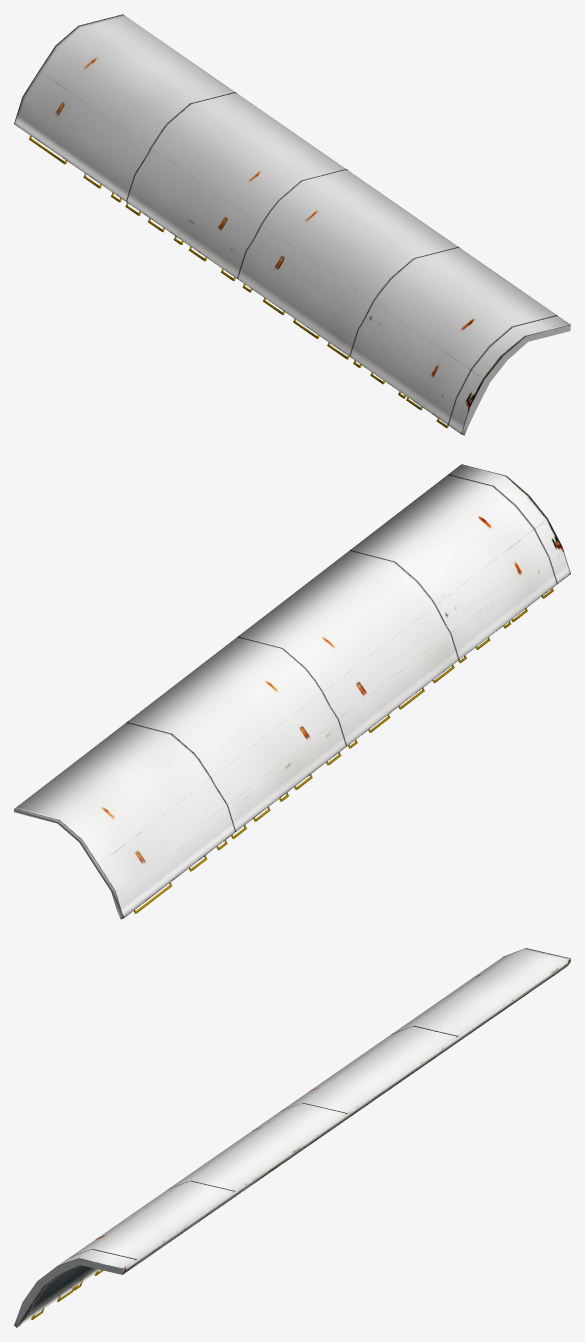
The model's file is baydoor.fbx.
3 views of the same model, one above another, from view 1: azimuth 30°, elevation 25°; view 2: azimuth 150°, elevation 25°; view 3: azimuth 330°, elevation 25° (orthographic).
Visible parts, largest first — view 1: door; view 2: door; view 3: door.
Part boxes in pixels (x1,y1,x2,y2): door: [14, 14, 570, 435]; door: [14, 464, 570, 919]; door: [14, 948, 570, 1327].
Size of the model in its own units: 9.71 by 9 by 68.86.
